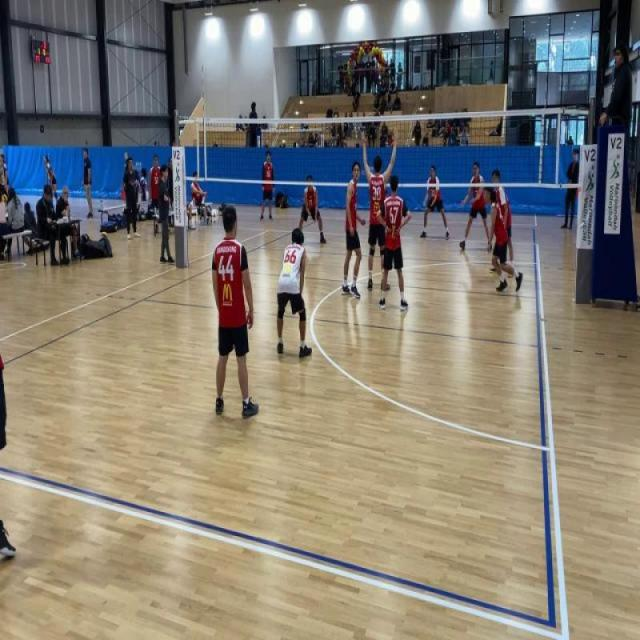volleyball: (1, 193, 8, 204), (100, 231, 108, 239)
